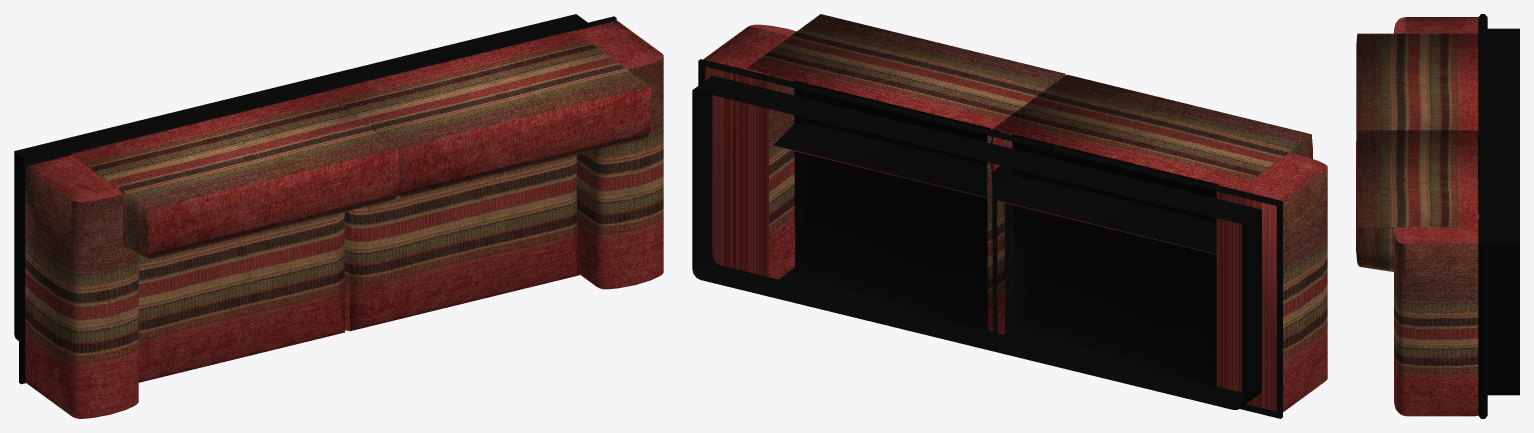
The picture shows the model from 3 angles, left to right: view 1: azimuth 30°, elevation 25°; view 2: azimuth 150°, elevation 25°; view 3: azimuth 270°, elevation 25°; orthographic projection. The views are drawn at different scales.
Visible parts, largest first — view 1: sofa a; view 2: sofa a; view 3: sofa a.
Boxes of the visible parts, <box> form: sofa a: <box>14,14,663,418</box>; sofa a: <box>692,14,1327,418</box>; sofa a: <box>1356,14,1519,418</box>.
Bounding box in the file's own units: 106 × 38.12 × 31.5.
2 materials, 1 textured.
